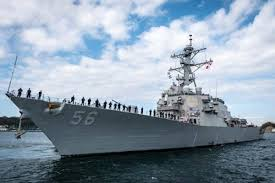tau_muctieu: (11, 47, 264, 154)
